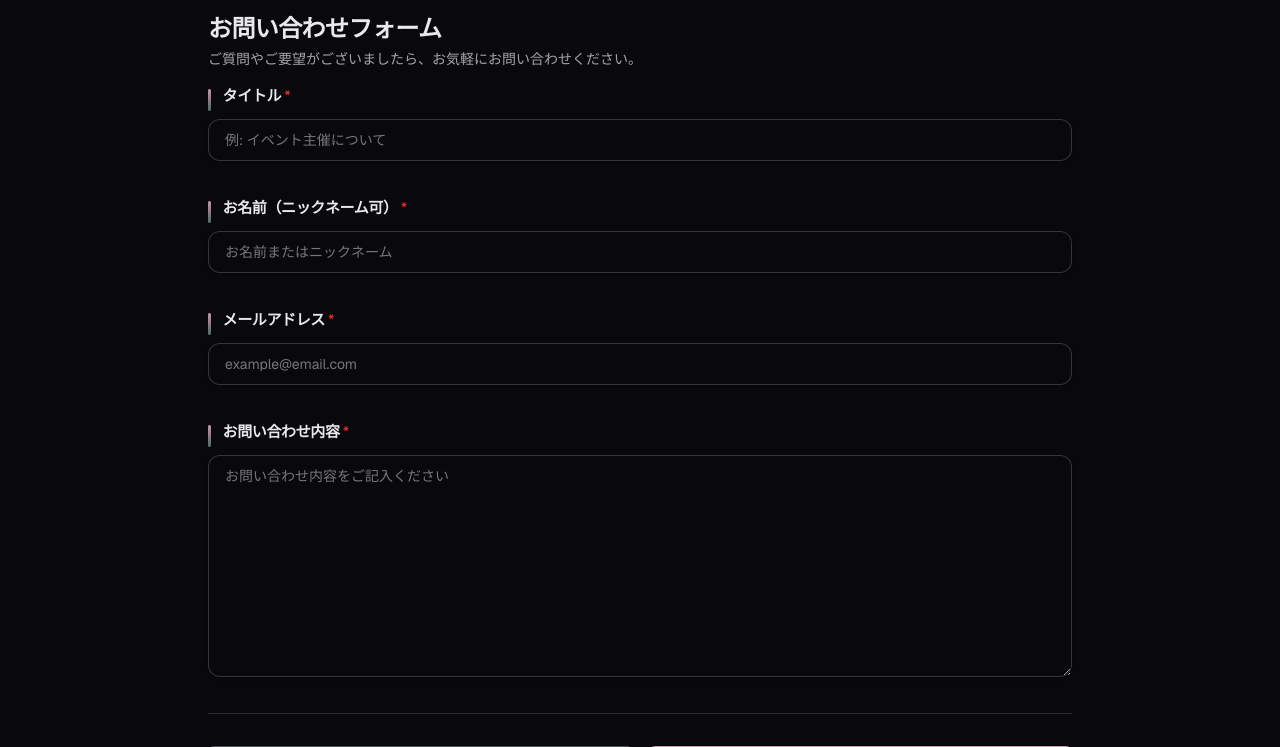
Test: ContactPage › 送信成功後、成功モーダルを表示する
Type "テストタイトル" into the field with placeholder "例: イベント主催について".
click(640, 140); type("テストタイトル")  # box [208,119,1072,161]
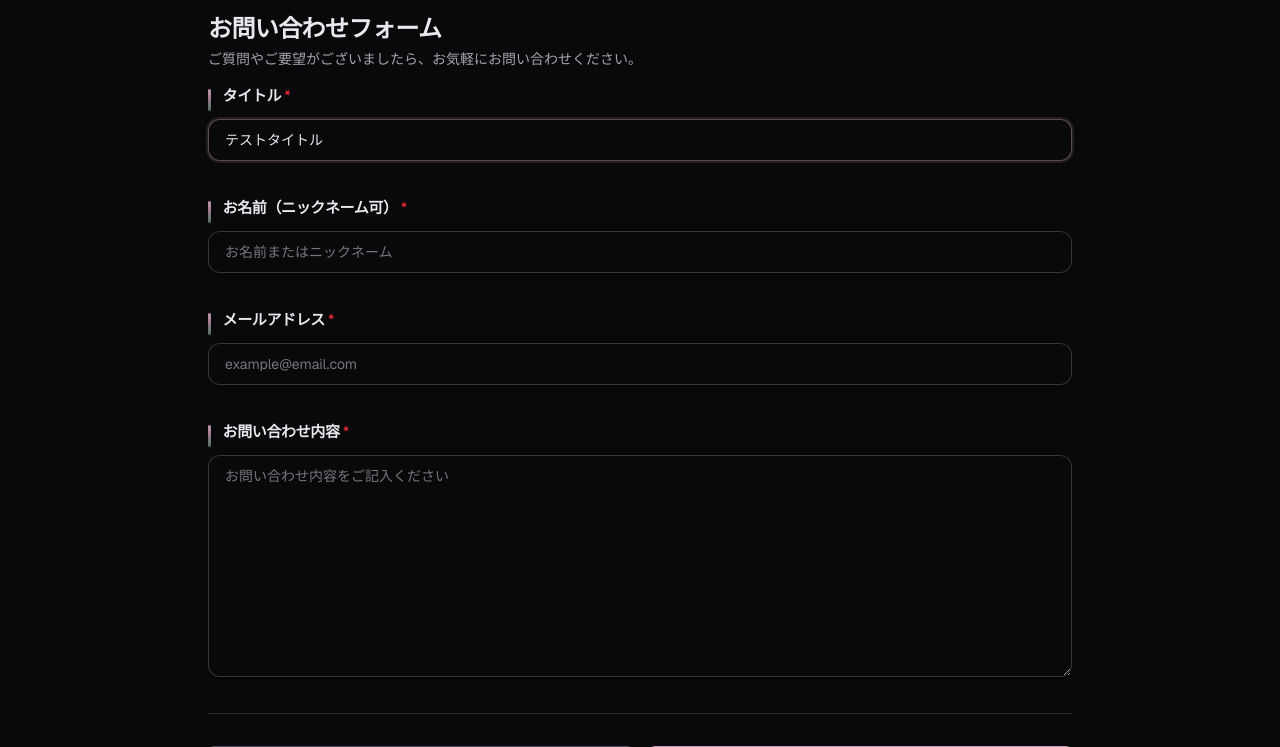
Type "テストユーザー" into the field with placeholder "お名前またはニックネーム".
click(640, 252); type("テストユーザー")  # box [208,231,1072,273]
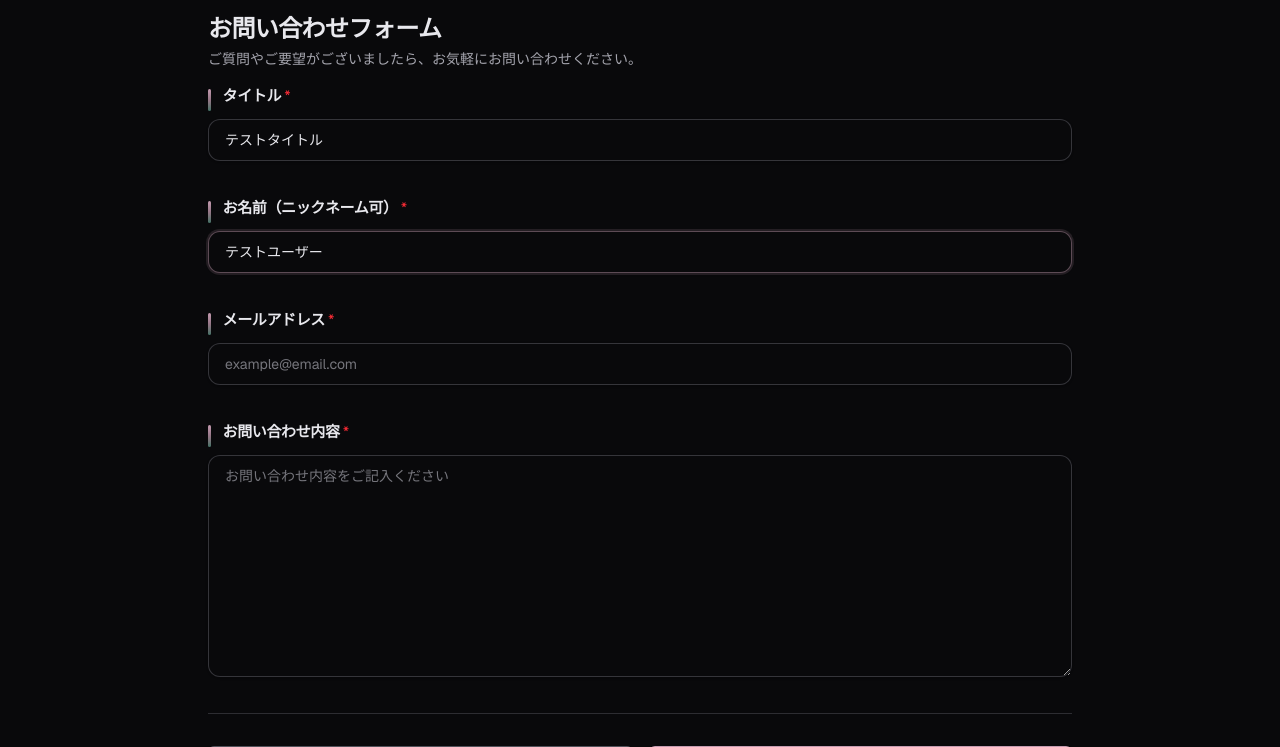
Type "test@example.com" into the field with placeholder "example@email.com".
click(640, 364); type("test@example.com")  # box [208,343,1072,385]
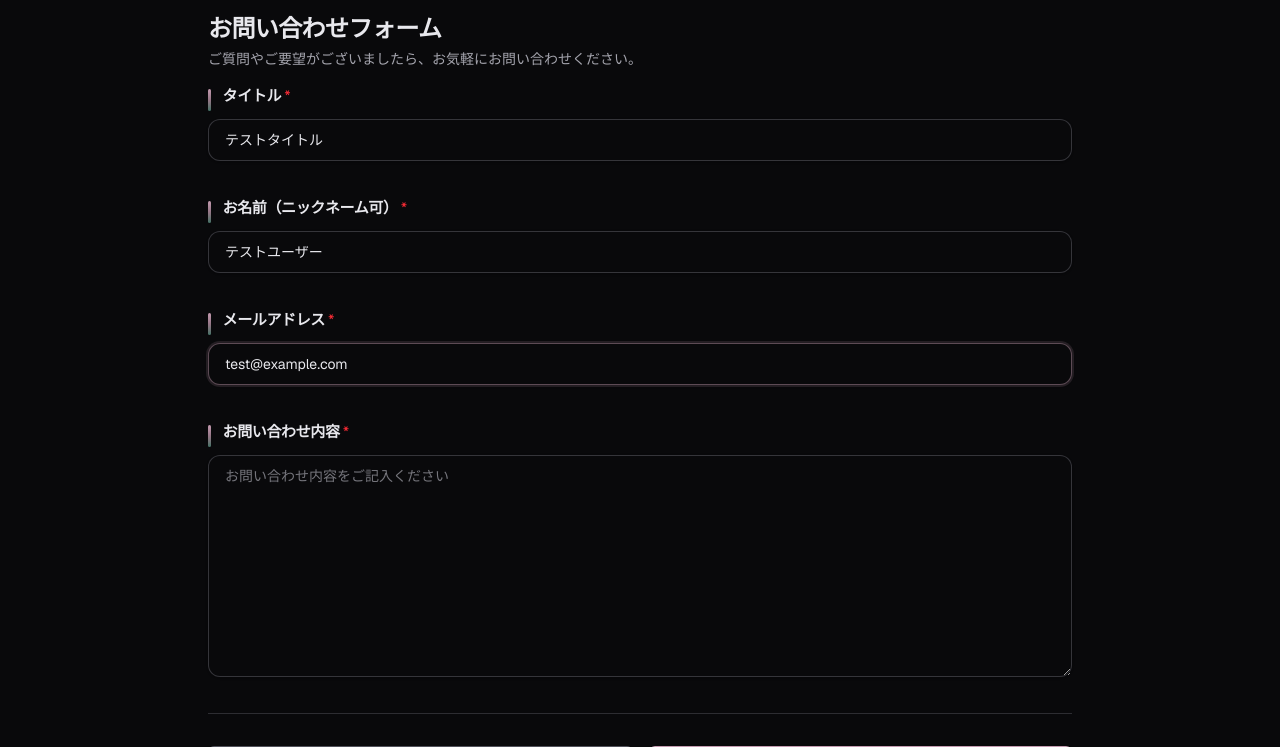
Type "テスト内容" into the text box with placeholder "お問い合わせ内容をご記入ください".
click(640, 566); type("テスト内容")  # box [208,455,1072,677]
(page scrolled)
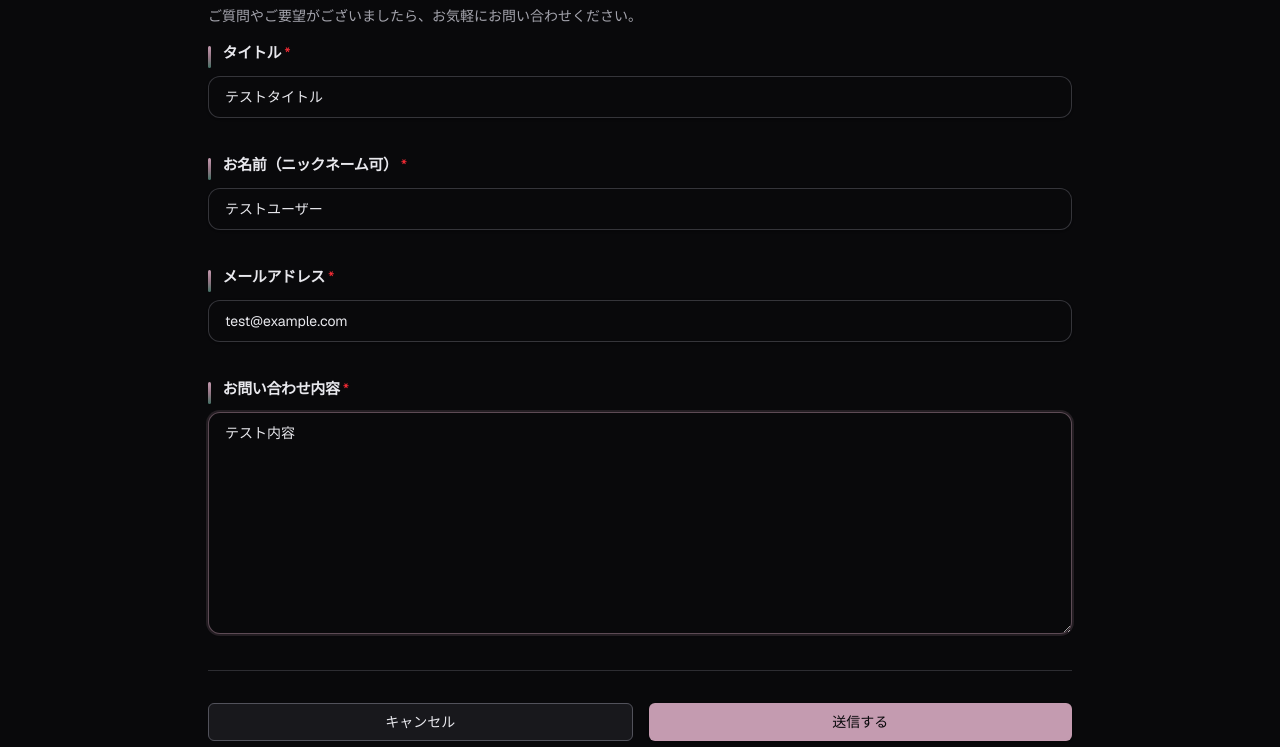
Click the button "送信する".
click(860, 722)  # box [648,703,1072,741]
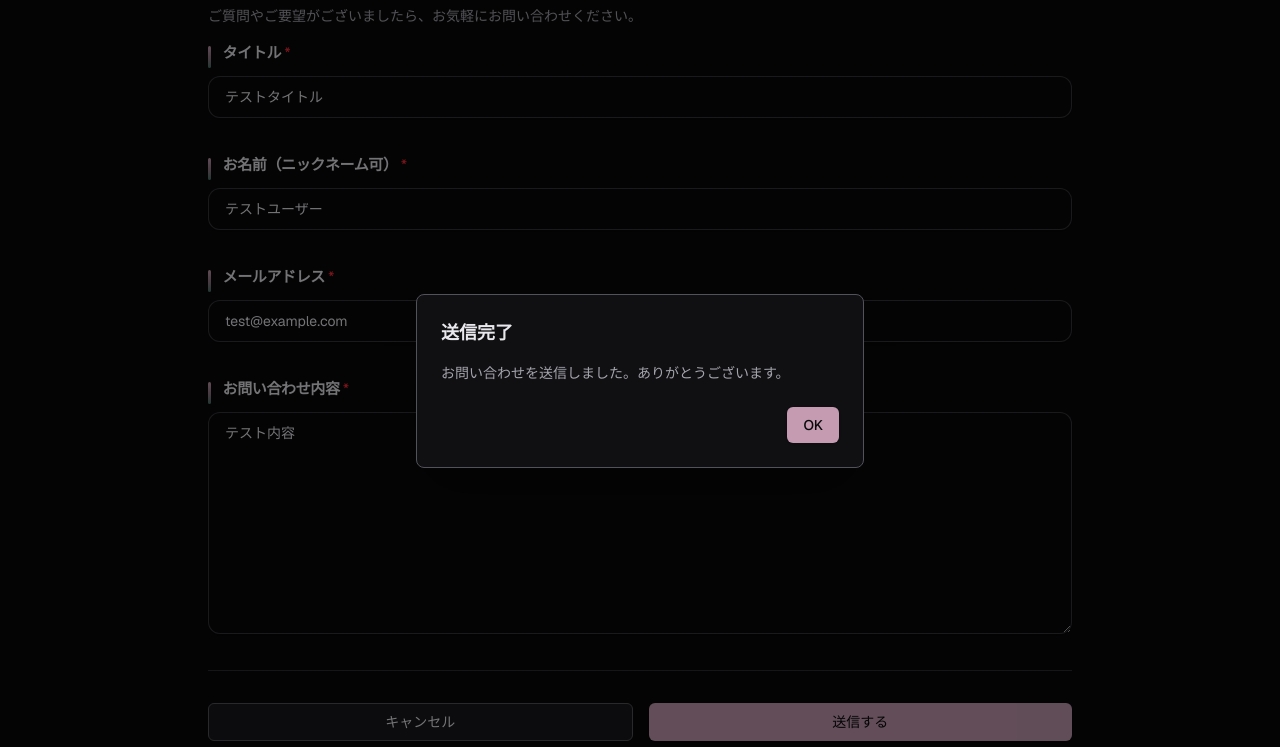
Now the heading "送信完了" is shown, box [441,321,513,344]
